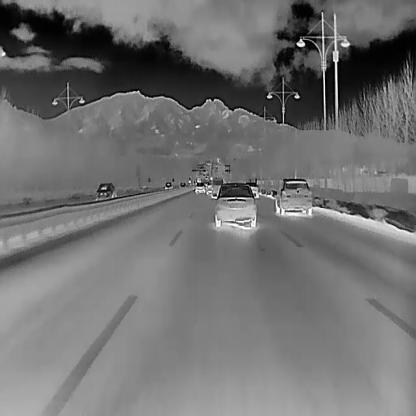car: (214, 182, 257, 227), (274, 177, 312, 215), (94, 181, 116, 200), (245, 180, 259, 198), (211, 177, 222, 198), (194, 182, 205, 192), (206, 180, 213, 195), (163, 181, 172, 189), (178, 180, 186, 188)
